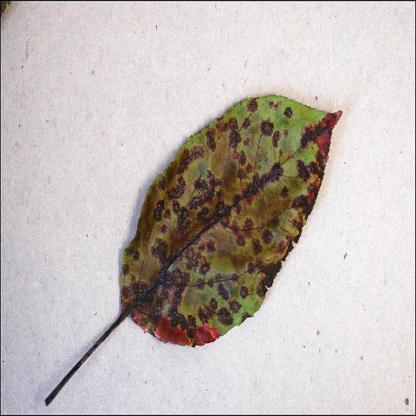Apple Scab Leaf: (112, 75, 352, 356)
